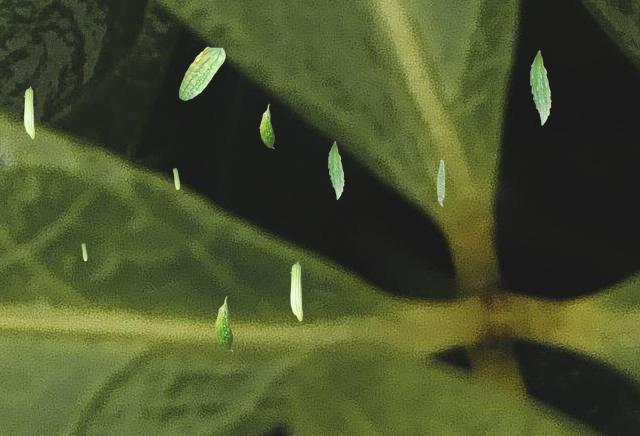ampalaya: (178, 46, 226, 101), (529, 50, 551, 126), (214, 296, 233, 351), (327, 141, 344, 200), (290, 260, 303, 321), (259, 103, 275, 149), (23, 85, 35, 139), (436, 159, 445, 206), (172, 167, 180, 190), (81, 242, 87, 261)
